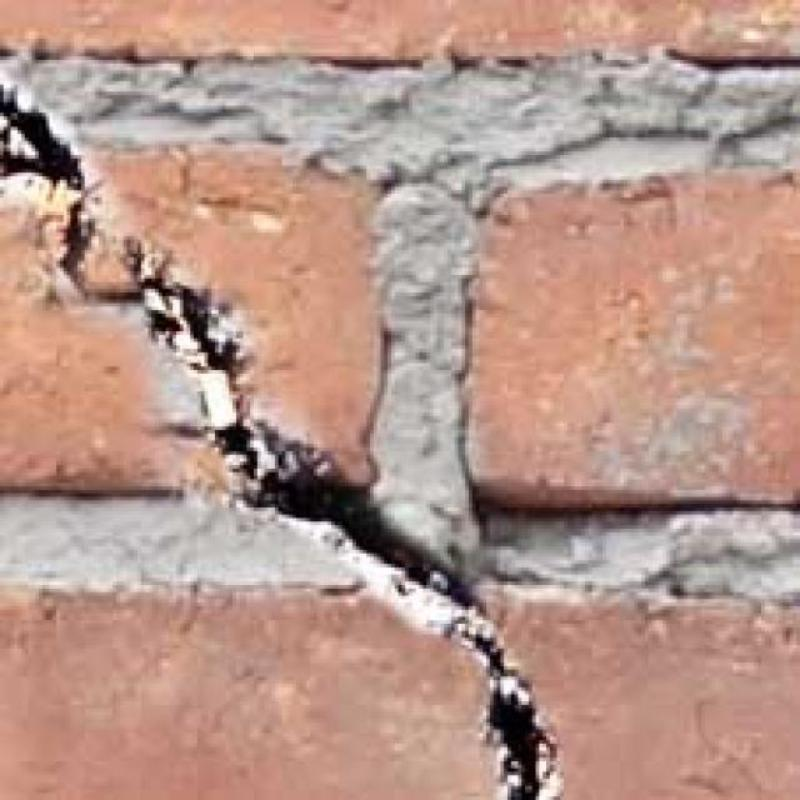pothole: (125, 250, 558, 799), (0, 84, 95, 295)
